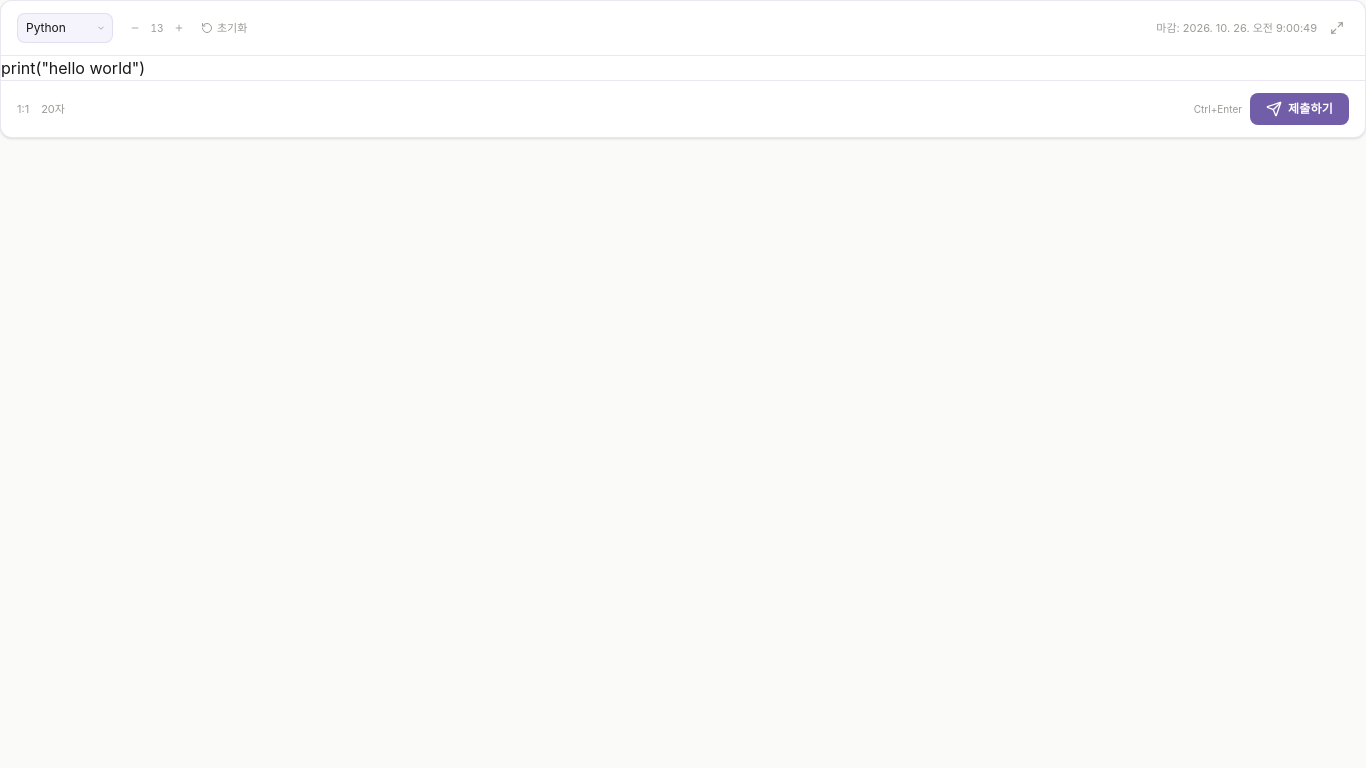
Test: CodeEditor › shows confirm popup even after deadline passed (late submission allowed)
Click the button "제출하기".
click(1300, 109)  # box [1250,93,1349,125]
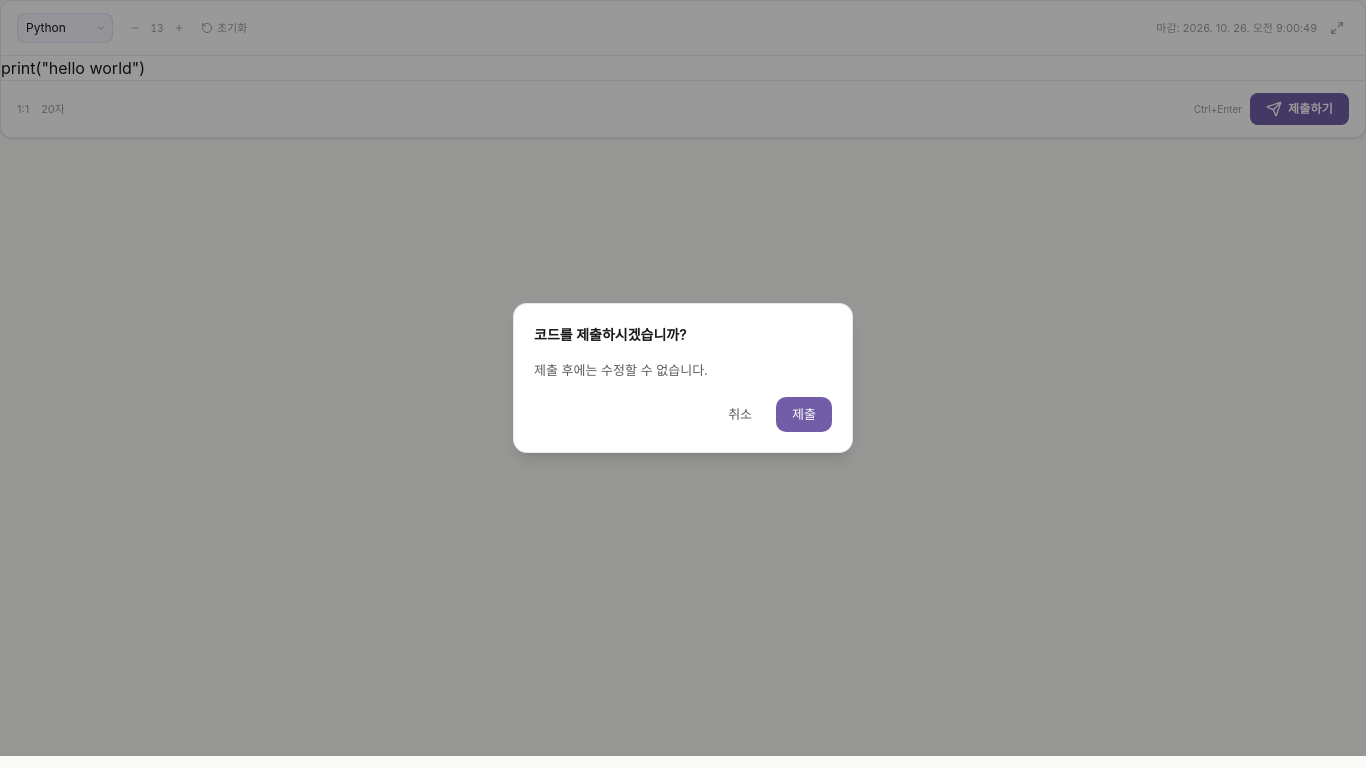
Expected: the text "코드를 제출하시겠습니까?" is shown, [534,326,687,343]
